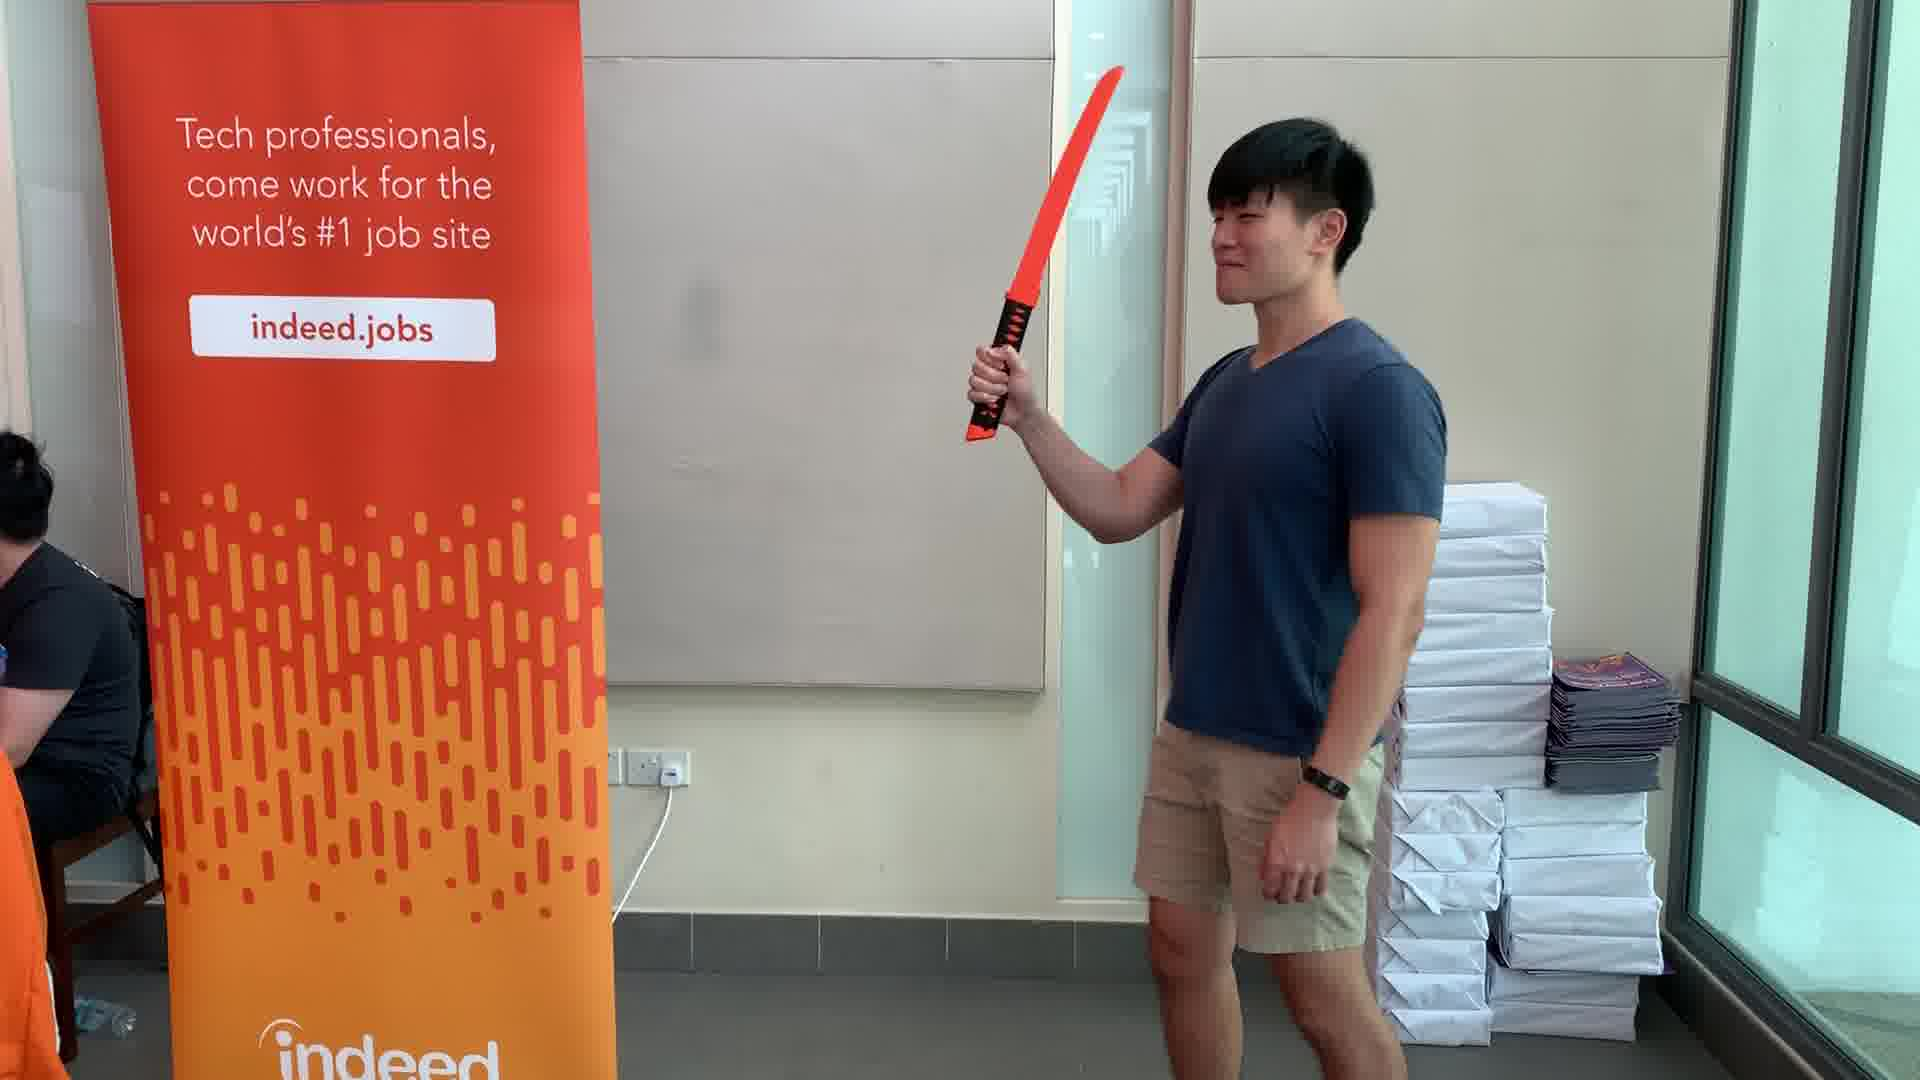knife: (955, 57, 1133, 446)
